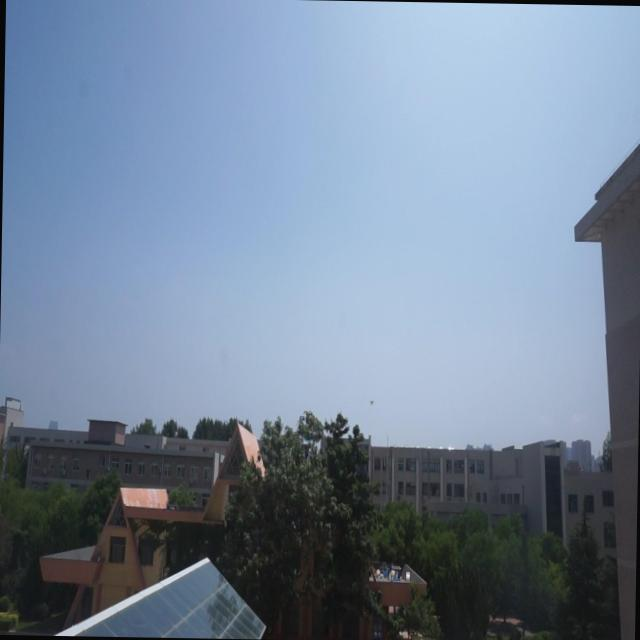drone: (367, 394, 377, 408)
